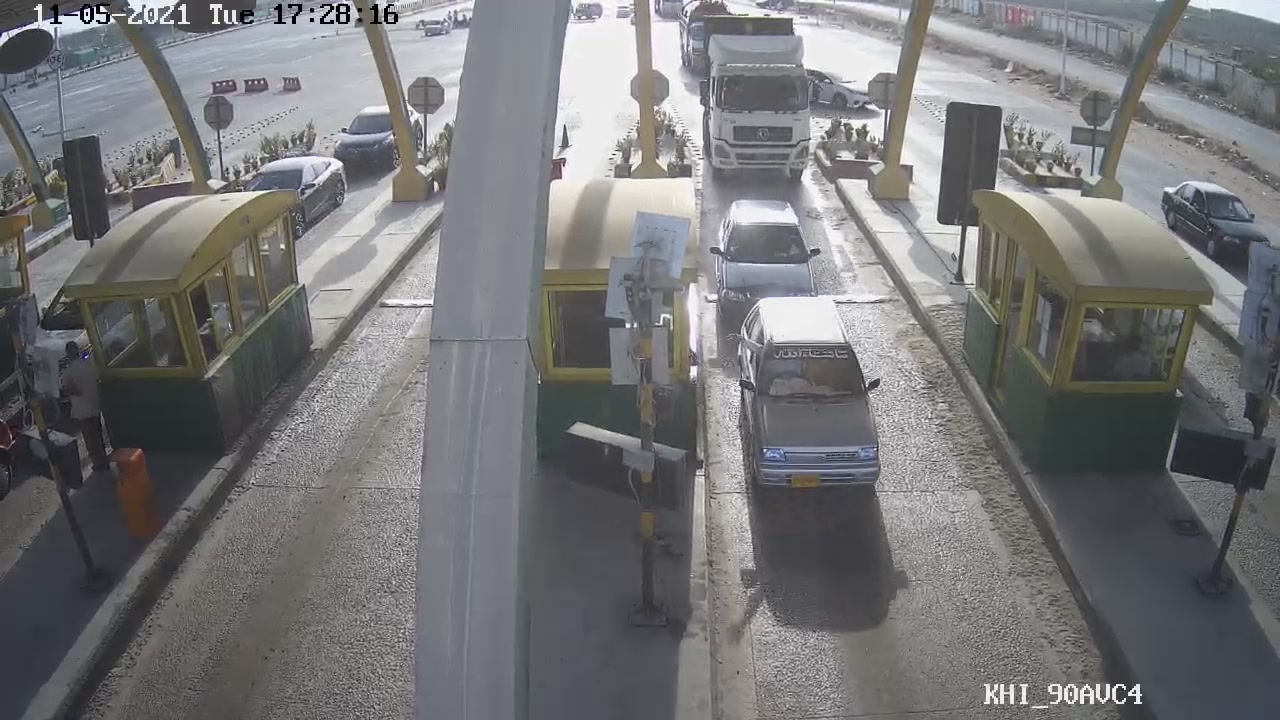F1: (725, 290, 900, 491)
